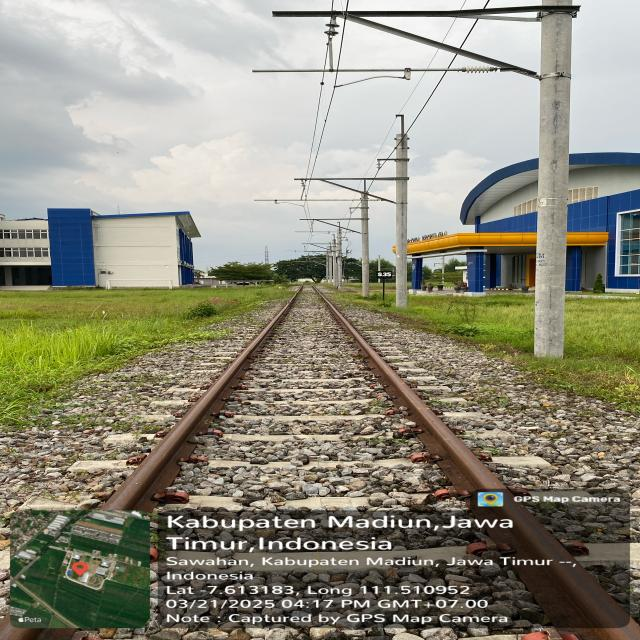rail-detection: (313, 286, 640, 640), (101, 285, 302, 511)
